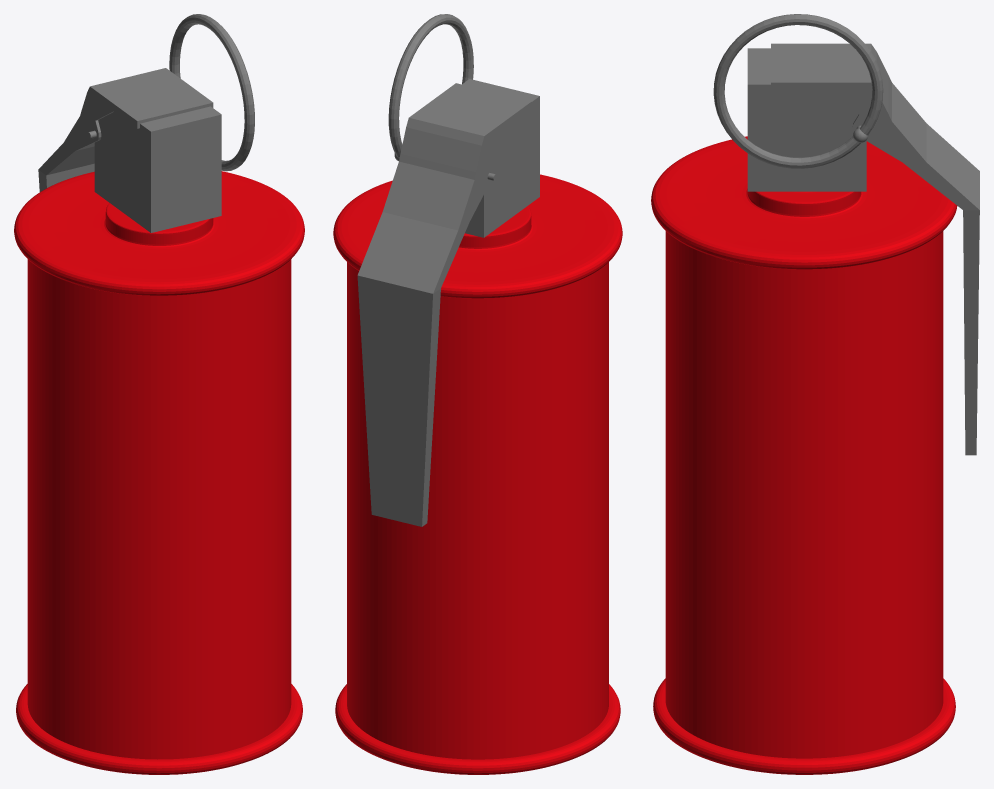
File: Incendiary Grenade.fbx
3 views of the same model, side by side, from view 1: azimuth 30°, elevation 25°; view 2: azimuth 150°, elevation 25°; view 3: azimuth 270°, elevation 25° (orthographic). The views are drawn at different scales.
Visible parts, largest first — view 1: Incendiary Grenade, Incendiary Grenade Spoon, Incendiary Grenade Pin; view 2: Incendiary Grenade, Incendiary Grenade Spoon, Incendiary Grenade Pin; view 3: Incendiary Grenade, Incendiary Grenade Spoon, Incendiary Grenade Pin.
Boxes of the visible parts, bbox=[...] form: Incendiary Grenade: bbox=[14, 106, 304, 774]; Incendiary Grenade Spoon: bbox=[38, 68, 213, 191]; Incendiary Grenade Pin: bbox=[87, 14, 254, 171]; Incendiary Grenade: bbox=[333, 79, 622, 774]; Incendiary Grenade Spoon: bbox=[357, 83, 531, 526]; Incendiary Grenade Pin: bbox=[388, 14, 496, 181]; Incendiary Grenade: bbox=[651, 48, 957, 774]; Incendiary Grenade Spoon: bbox=[771, 43, 979, 455]; Incendiary Grenade Pin: bbox=[713, 14, 883, 168].
Bounding box in the file's own units: 150 × 392 × 161.
